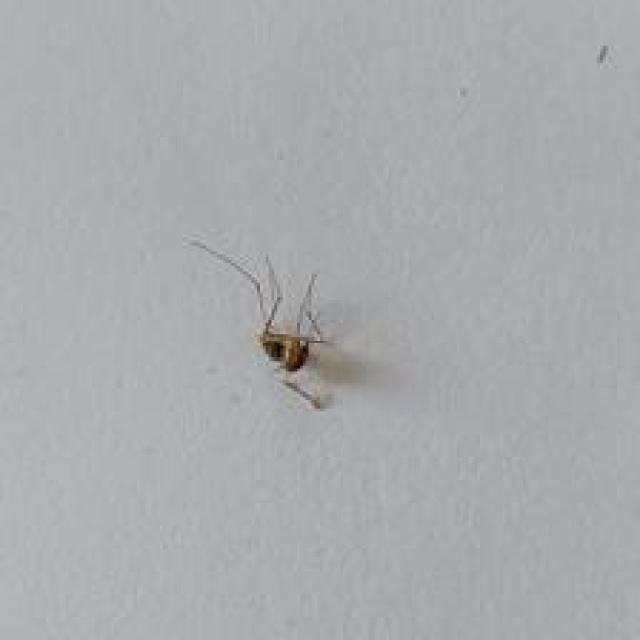Culex: (189, 237, 334, 412)
